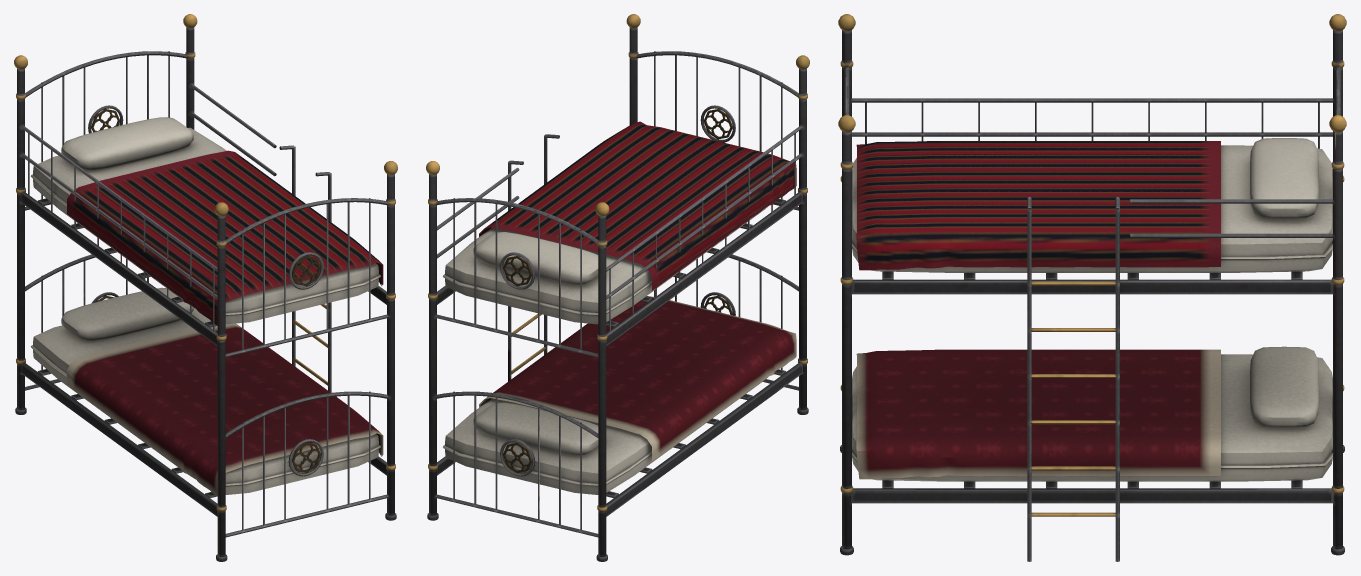
File: BunkBed.fbx
3 views of the same model, side by side, from view 1: azimuth 30°, elevation 25°; view 2: azimuth 150°, elevation 25°; view 3: azimuth 270°, elevation 25° (orthographic). The views are drawn at different scales.
Visible parts, largest first — view 1: BunkBed_Bedding, BunkBed_Main; view 2: BunkBed_Bedding, BunkBed_Main; view 3: BunkBed_Bedding, BunkBed_Main.
Boxes of the visible parts, box(x1,y1,x2,y2) form: BunkBed_Bedding: box(31, 117, 383, 495); BunkBed_Main: box(14, 14, 397, 561); BunkBed_Bedding: box(443, 121, 796, 494); BunkBed_Main: box(426, 14, 809, 561); BunkBed_Bedding: box(852, 138, 1332, 481); BunkBed_Main: box(838, 14, 1346, 561).
Bounding box in the file's own units: 427 × 766 × 807.
